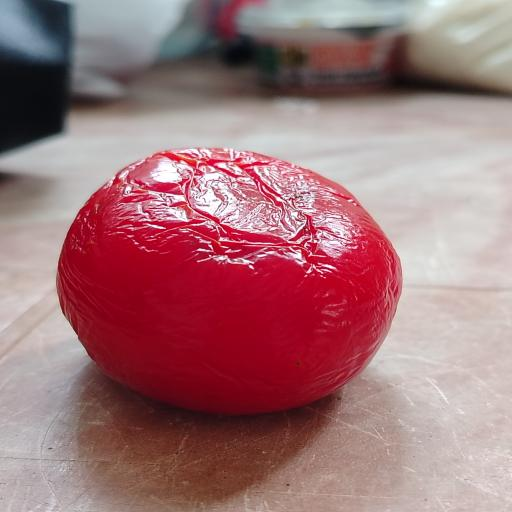spoiled: (57, 148, 402, 415)
